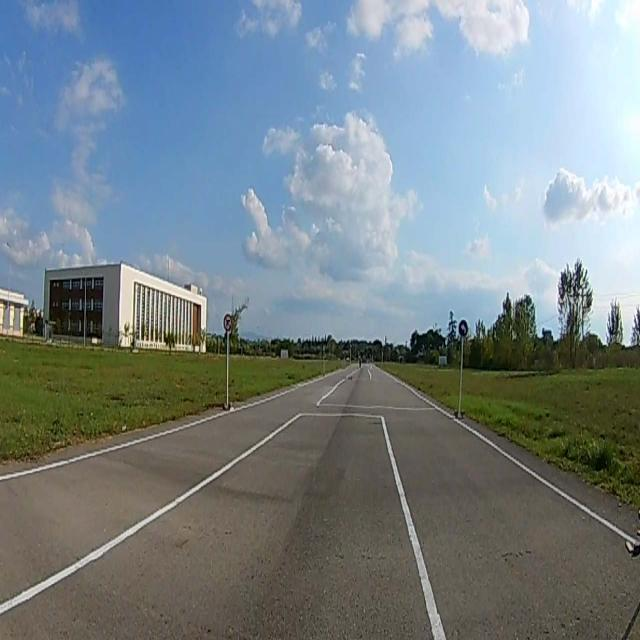sagadonulmez: (224, 314, 232, 330)
sol: (458, 320, 468, 337)
